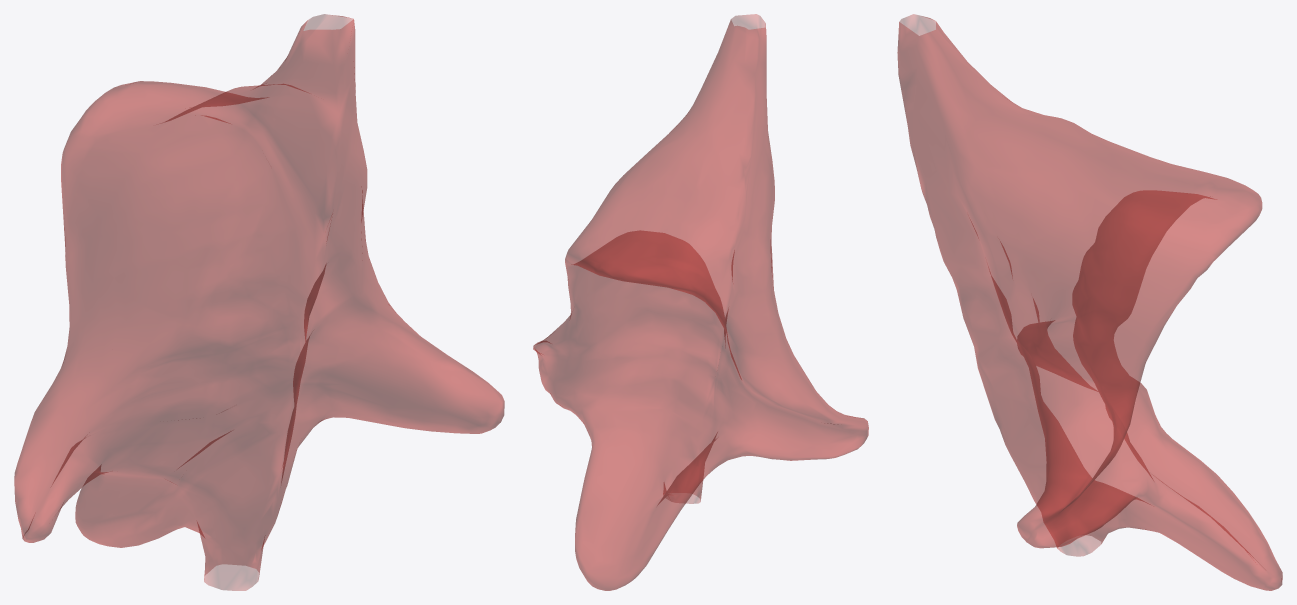
Rendered from nervoso-fourth-ventricle.glb.
3 views of the same model, side by side, from view 1: azimuth 30°, elevation 25°; view 2: azimuth 150°, elevation 25°; view 3: azimuth 270°, elevation 25° (orthographic). The views are drawn at different scales.
Visible parts, largest first — view 1: Fourth ventricle; view 2: Fourth ventricle; view 3: Fourth ventricle.
Boxes of the visible parts, x1,y1,x2,y2 form: Fourth ventricle: (14, 14, 504, 590); Fourth ventricle: (533, 14, 868, 590); Fourth ventricle: (897, 14, 1282, 590).
Bounding box in the file's own units: 0.0274 × 0.0366 × 0.0226.
